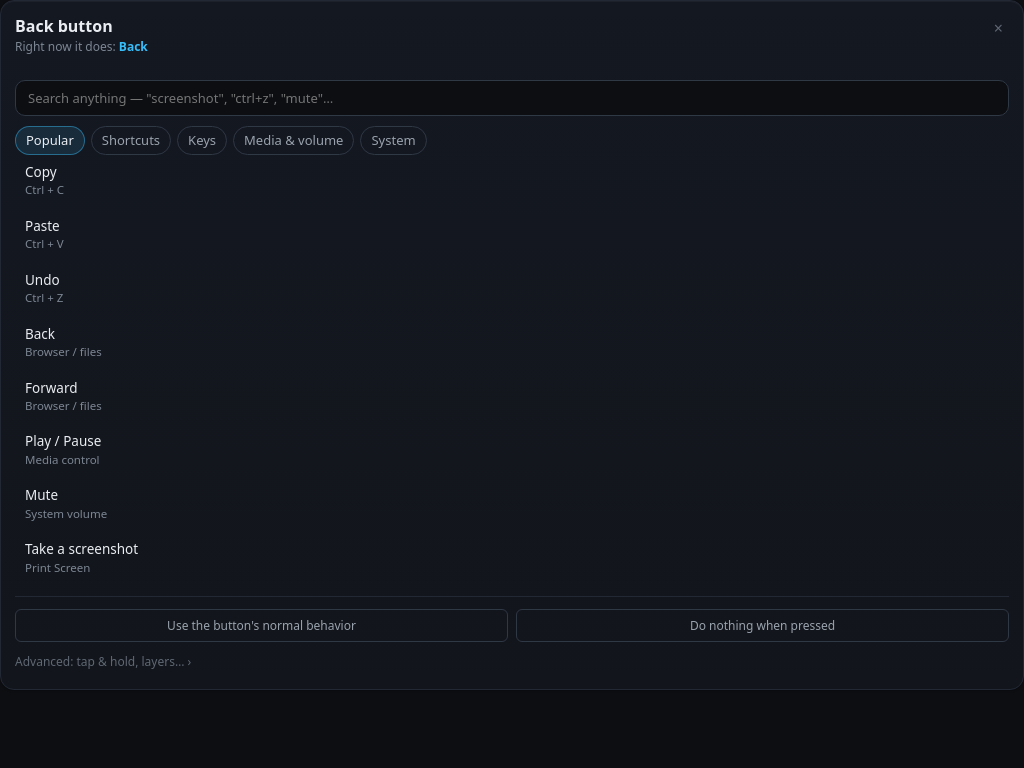
Test case: AssignPanel › hides InspectorPanel until Advanced link is clicked
Expected: the text "tap-hold" is not shown
Step 1. Click the button "Advanced: tap & hold, layers… ›" → (103, 662), box [15,650,1009,675]
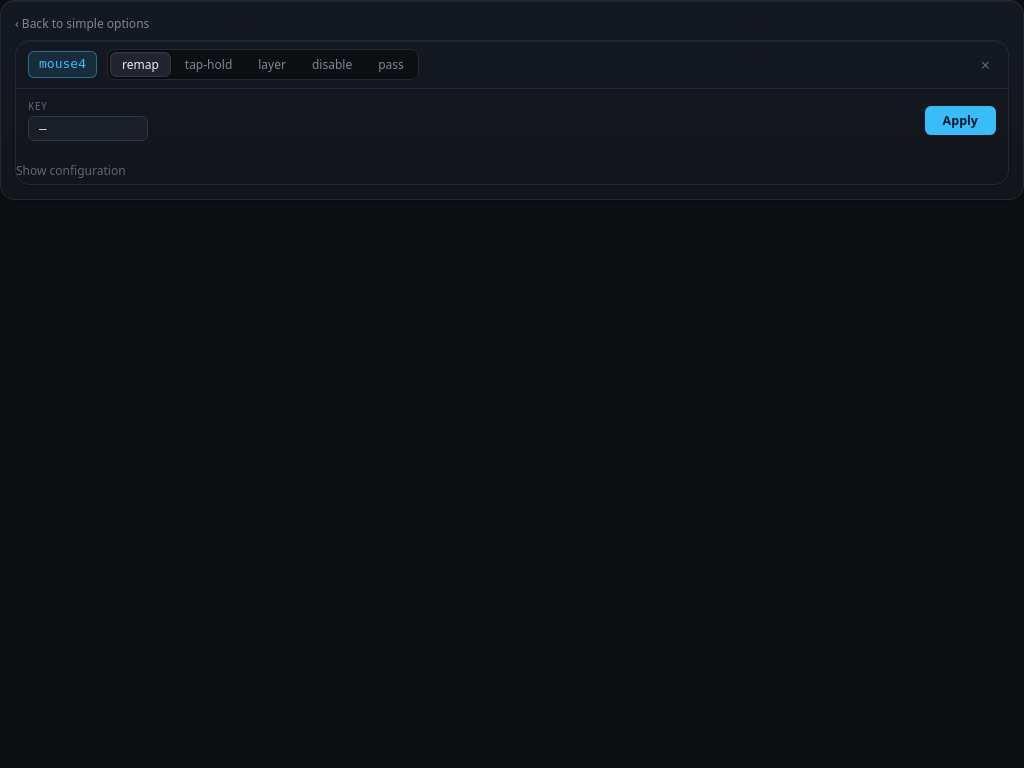
Now the button "tap-hold" is shown, box [173,52,244,77]
